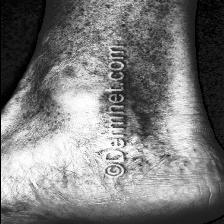Non-Cancerous Skin Condition: (18, 0, 108, 108), (126, 0, 180, 176), (0, 124, 91, 198)
